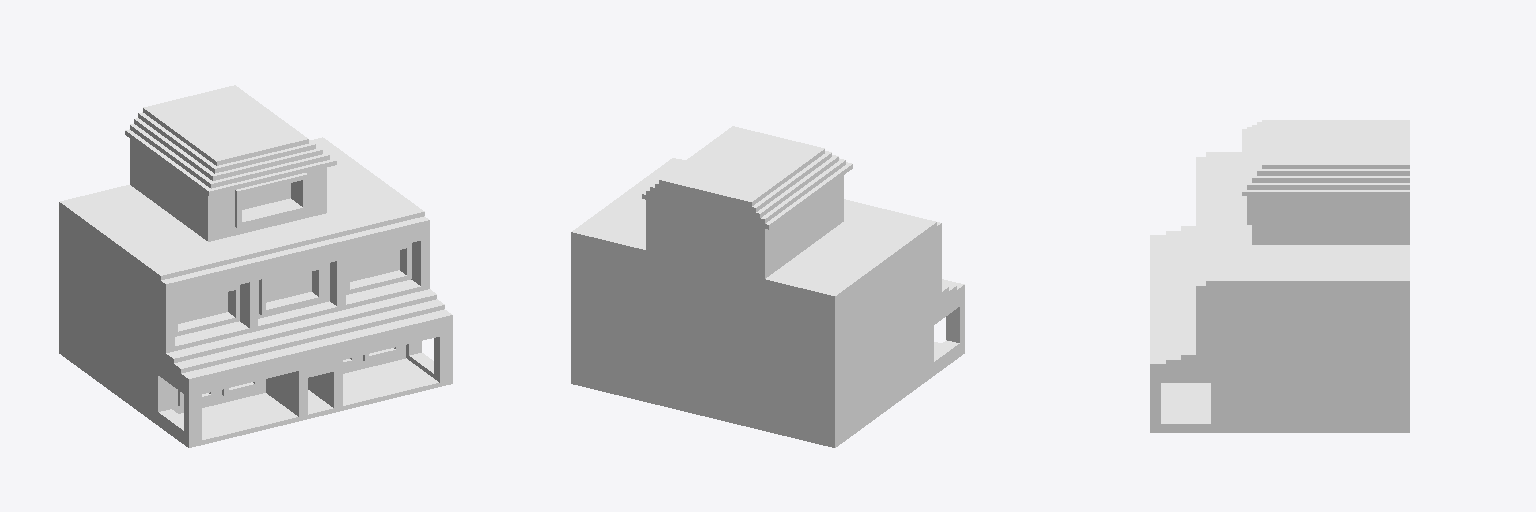
The model's file is Discoteca.obj.
3 renders of one model, left to right at view 1: azimuth 30°, elevation 25°; view 2: azimuth 150°, elevation 25°; view 3: azimuth 270°, elevation 25°, orthographic.
Parts seen in each view (by area): view 1: object 1; view 2: object 1; view 3: object 1.
Boxes of the visible parts, x1=… form: object 1: x1=59, y1=85, x2=452, y2=447; object 1: x1=571, y1=126, x2=964, y2=447; object 1: x1=1150, y1=120, x2=1409, y2=432.
Bounding box in the file's own units: 6 × 4.9 × 5.1.